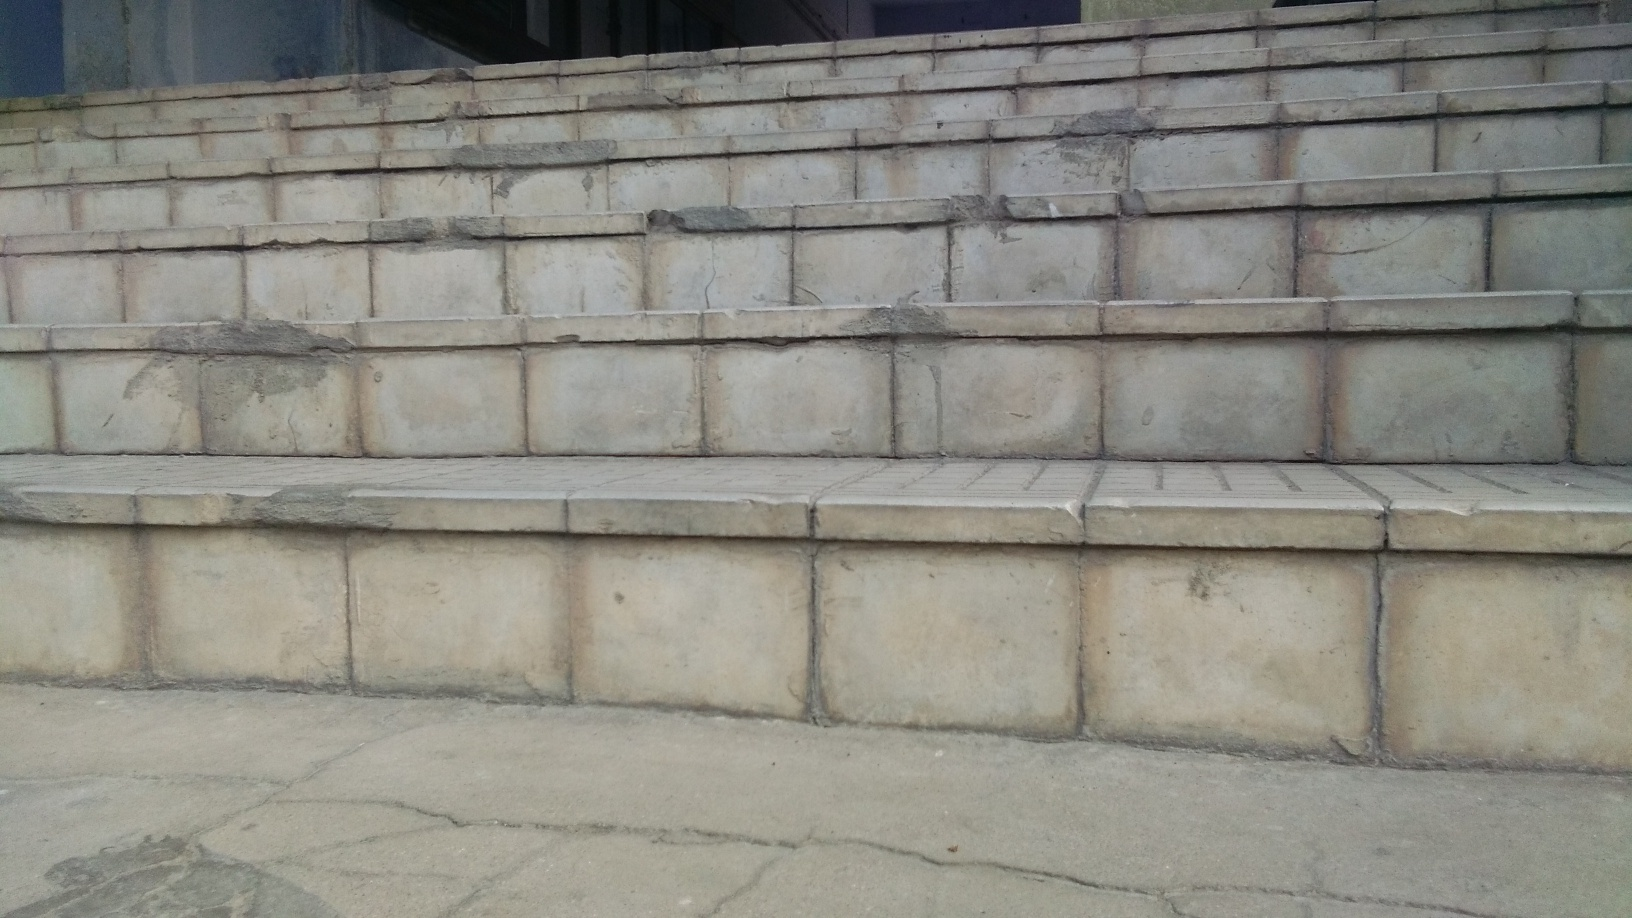stairs_up: (6, 112, 1632, 807)
